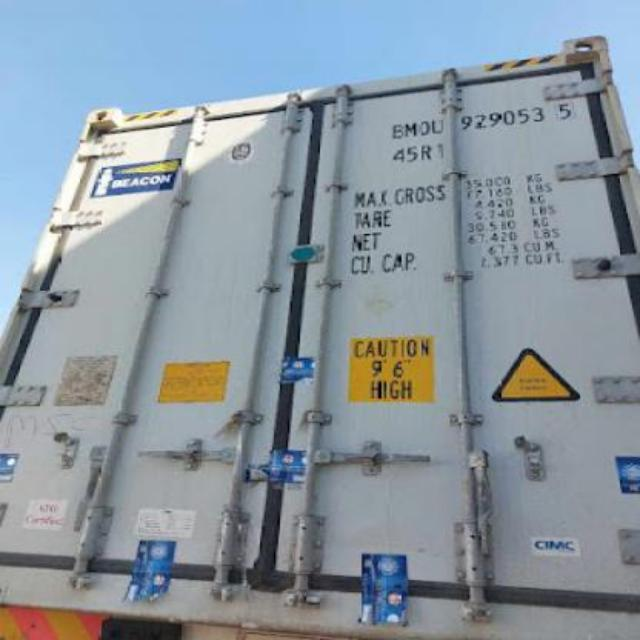0: (502, 109, 518, 127)
2: (474, 112, 488, 132)
3: (530, 105, 548, 123)
5: (554, 102, 578, 120), (518, 108, 532, 126)
9: (458, 114, 474, 130), (488, 111, 502, 127)
B: (391, 123, 404, 139)
M: (404, 122, 418, 138)
O: (418, 120, 432, 138)
U: (430, 119, 446, 135)
